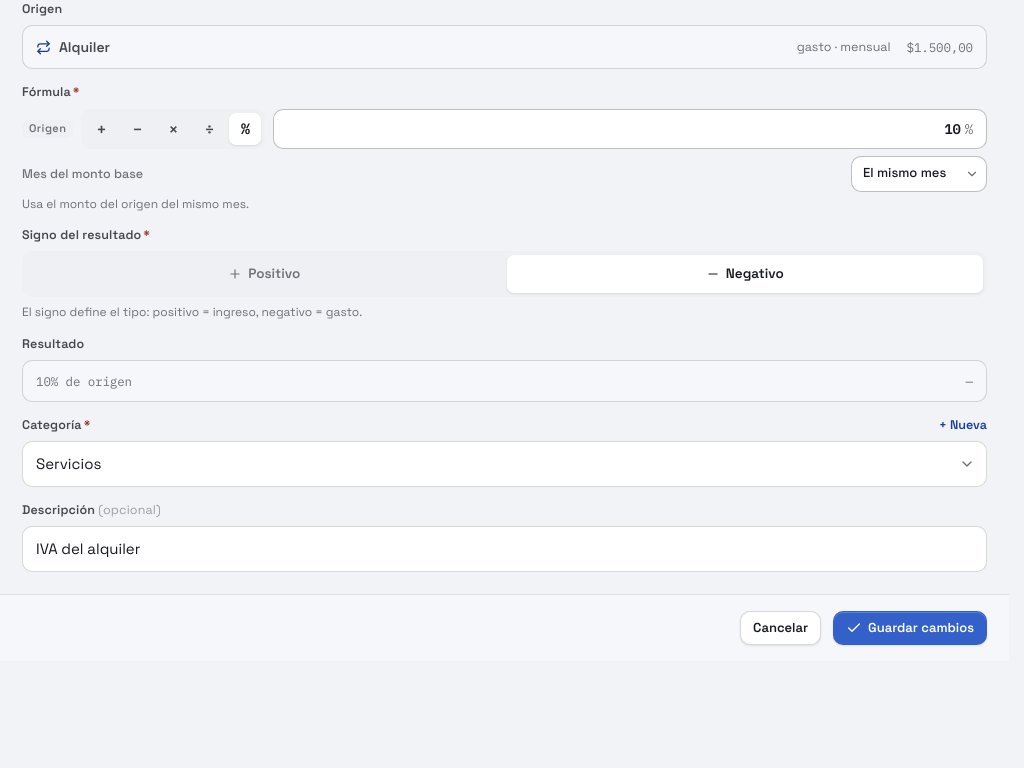
Test: Toast Deshacer — calculado de fijo (id de fila inestable por split) › editar y después borrar el mismo calculado deja UN solo toast
Click the button "Guardar cambios" at (910, 628), box [833,610,987,645]
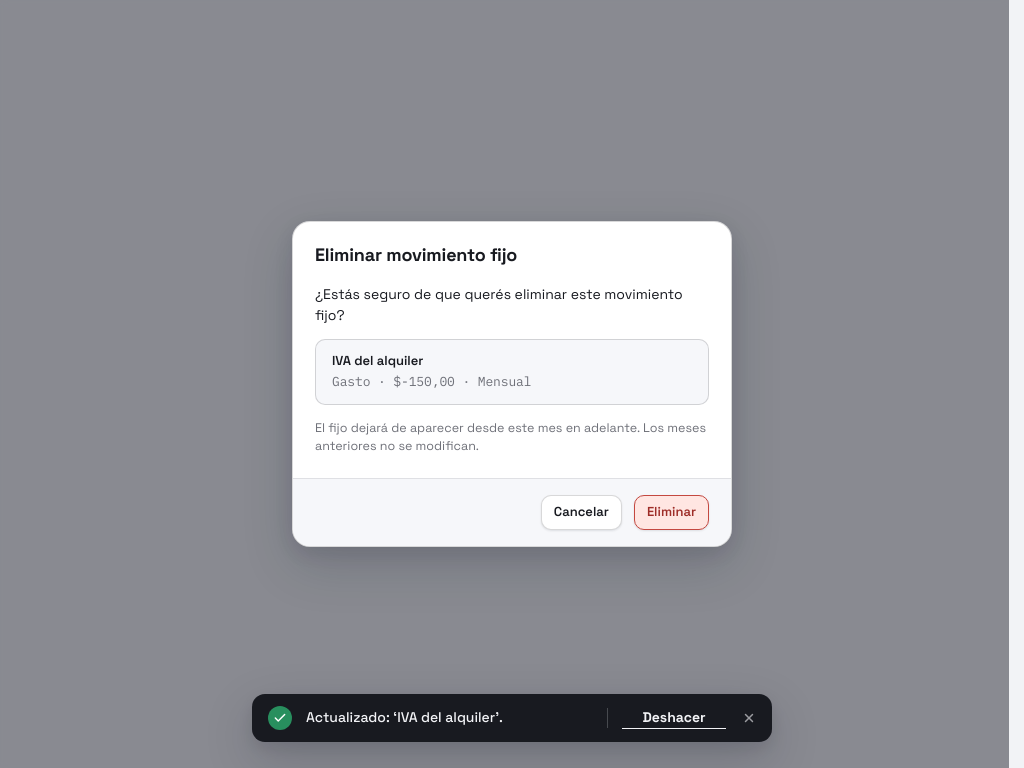
expect the text "Actualizado: ‘IVA del alquiler’." is shown: met, box [306,708,503,726]
expect the number of messages is 1: met, box [252,694,772,742]
expect the button "Eliminar" is shown: met
Click the button "Eliminar" at (671, 512), box [634,495,709,530]
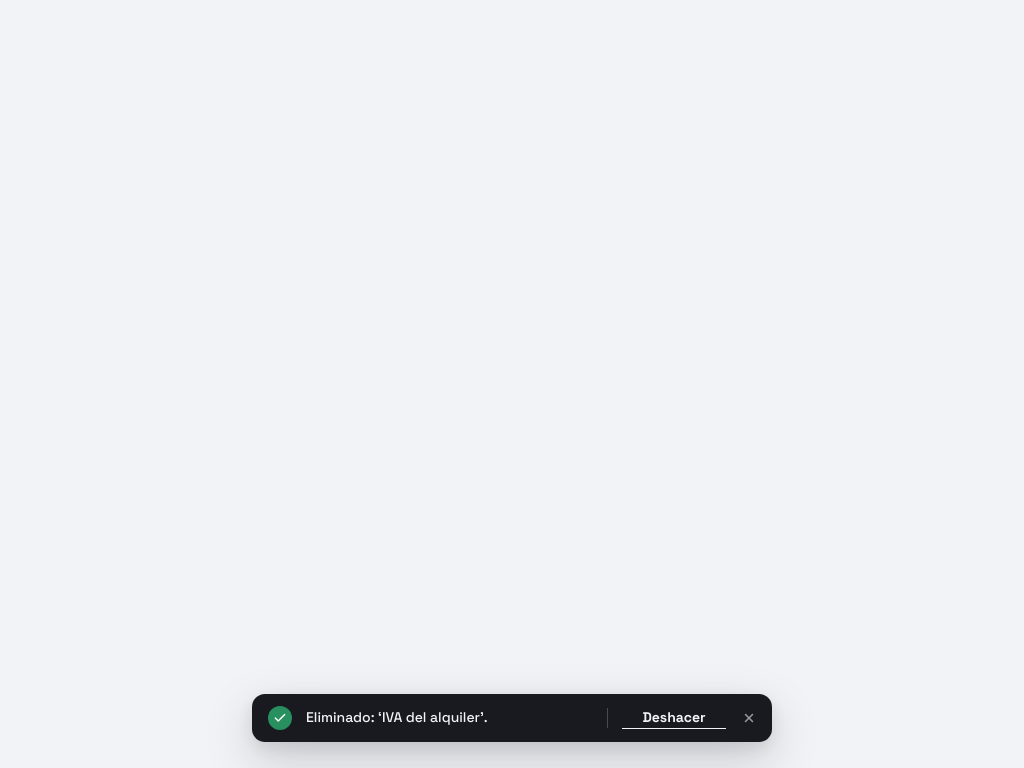
expect the number of messages is 1: met, box [252,694,772,742]
expect the text "Eliminado: ‘IVA del alquiler’." is shown: met, box [306,708,488,726]
expect the text "Actualizado:" is gone: met
